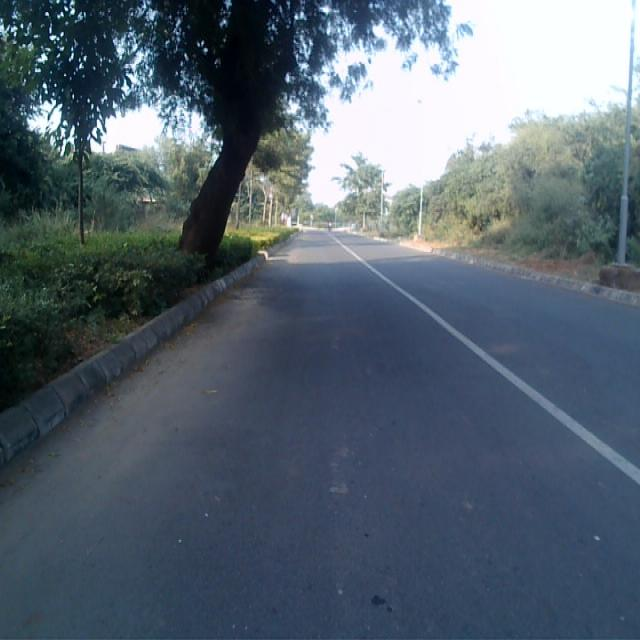lane: (0, 235, 640, 638)
